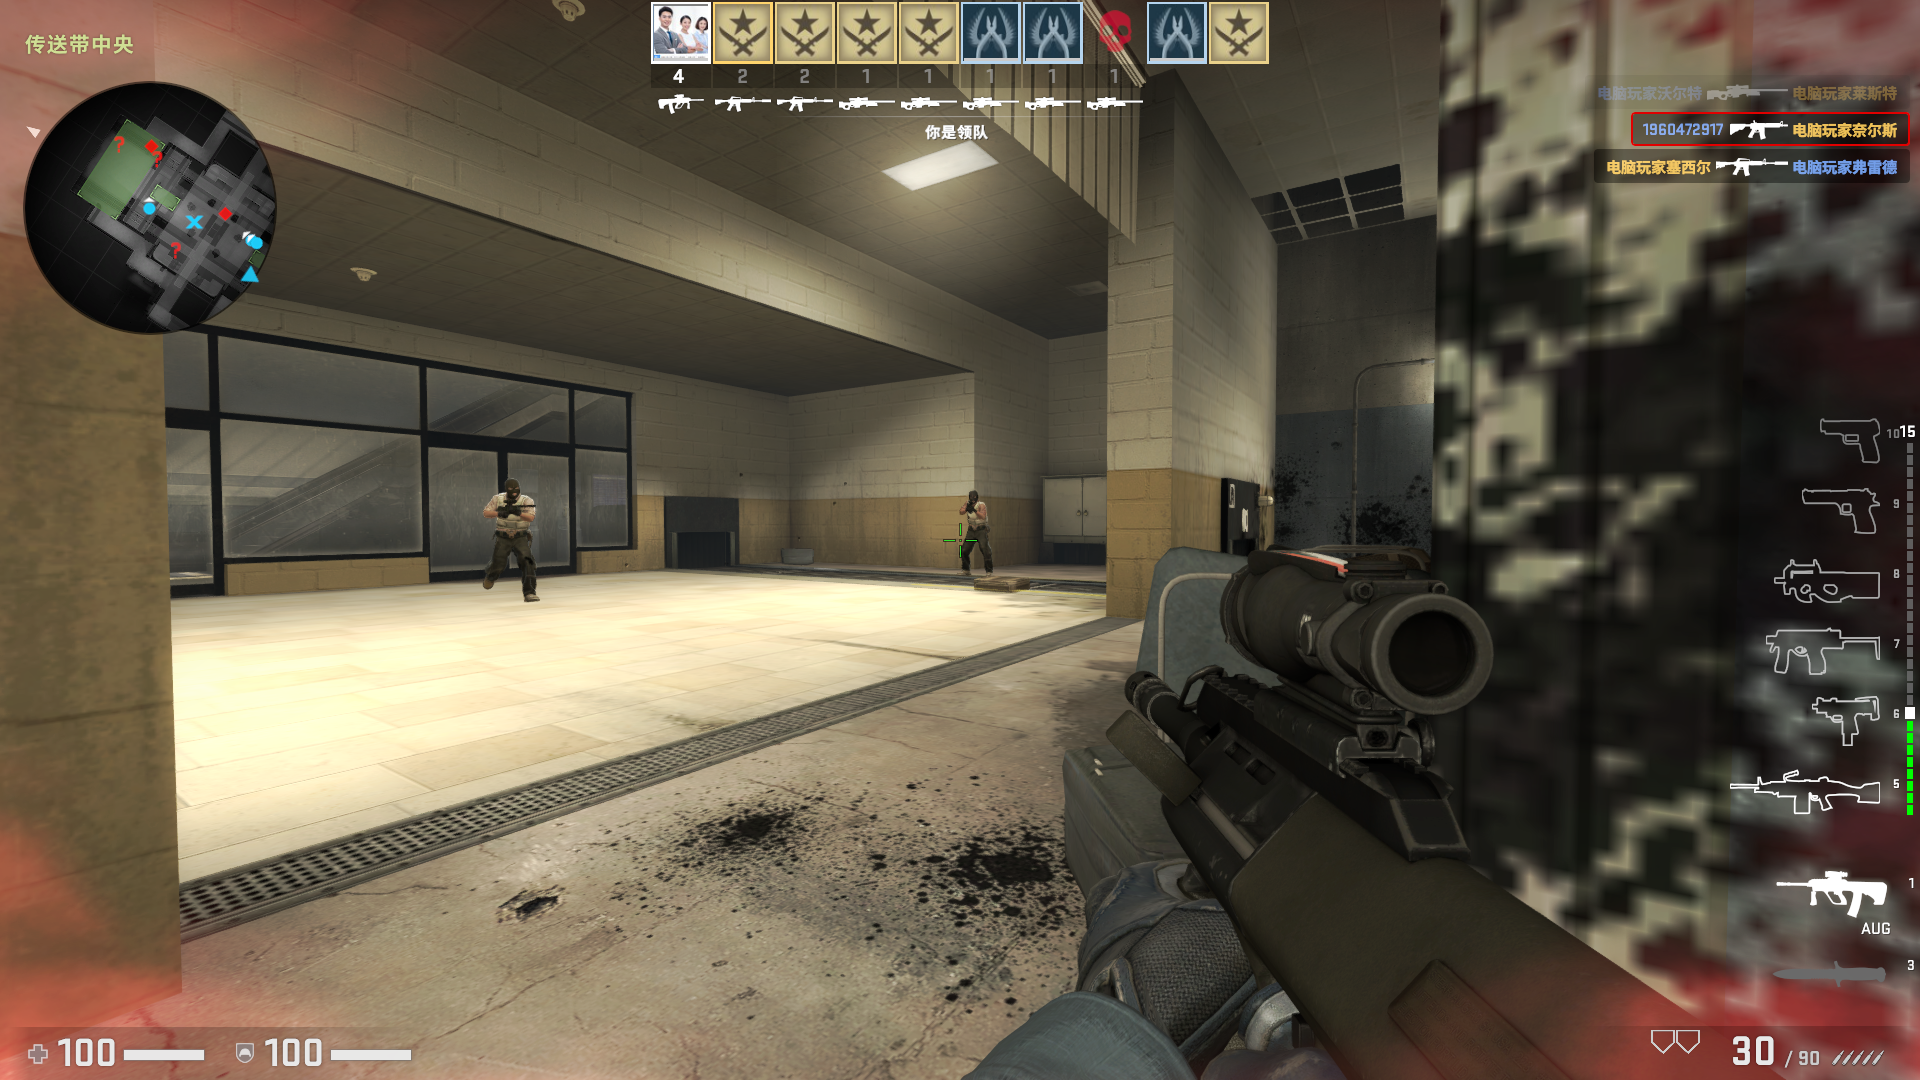person: (482, 474, 542, 602), (954, 488, 1001, 577)
